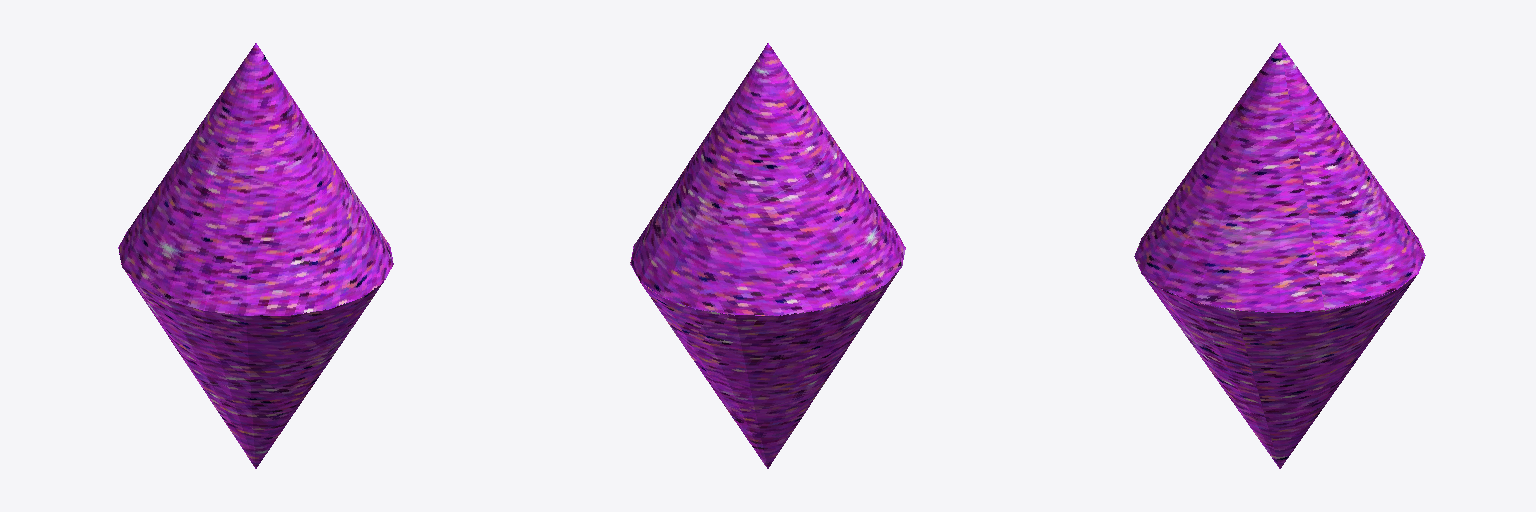
3 views of the same model, side by side, from view 1: azimuth 30°, elevation 25°; view 2: azimuth 150°, elevation 25°; view 3: azimuth 270°, elevation 25° (orthographic).
Size of the model in its own units: 2.21 by 3.84 by 2.37.
Materials: 1 (1 with a texture image).